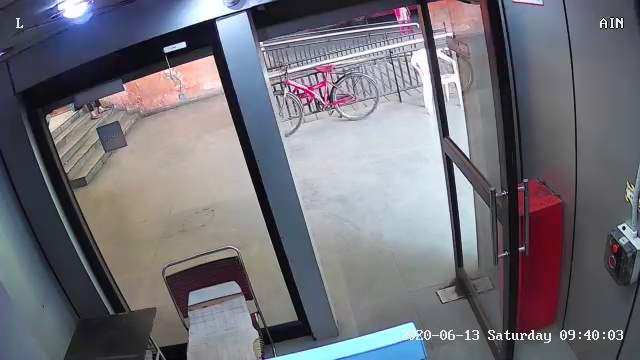open: (380, 3, 561, 354)
